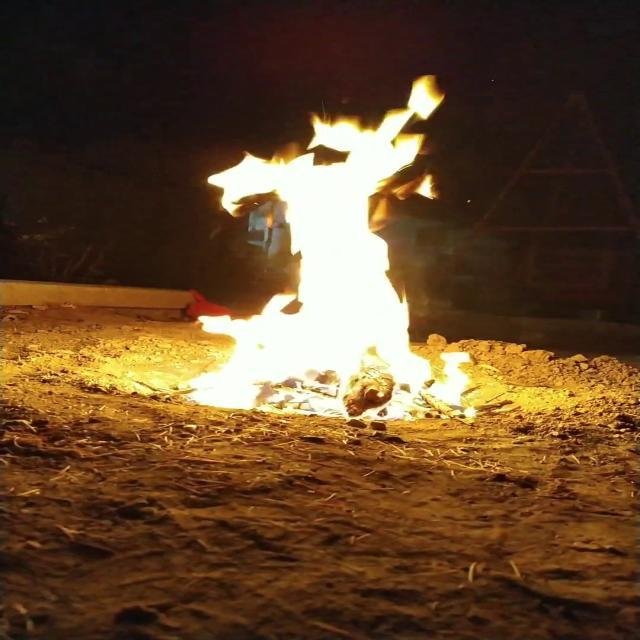Fire: (172, 68, 482, 419)
